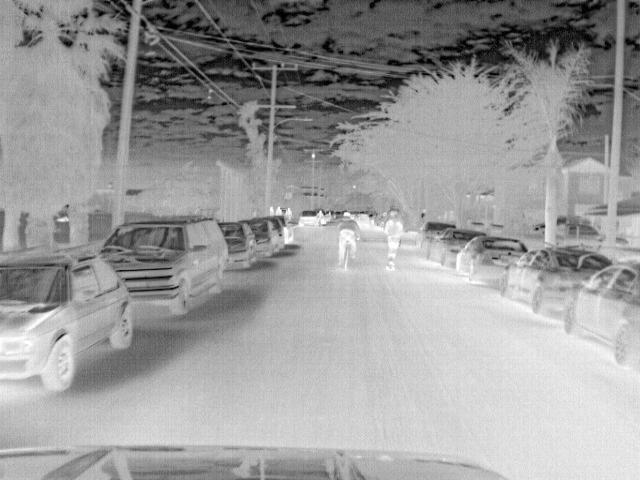car: (0, 253, 134, 393), (94, 215, 229, 316), (561, 261, 638, 375), (501, 248, 609, 320), (456, 236, 525, 282), (429, 229, 487, 263), (220, 221, 256, 270), (555, 221, 605, 251), (244, 220, 278, 262), (414, 220, 457, 250), (266, 221, 284, 251), (275, 220, 293, 246), (299, 209, 321, 225)
person: (380, 210, 407, 271), (334, 210, 361, 269), (282, 207, 294, 225), (272, 204, 284, 218), (265, 206, 277, 216)
